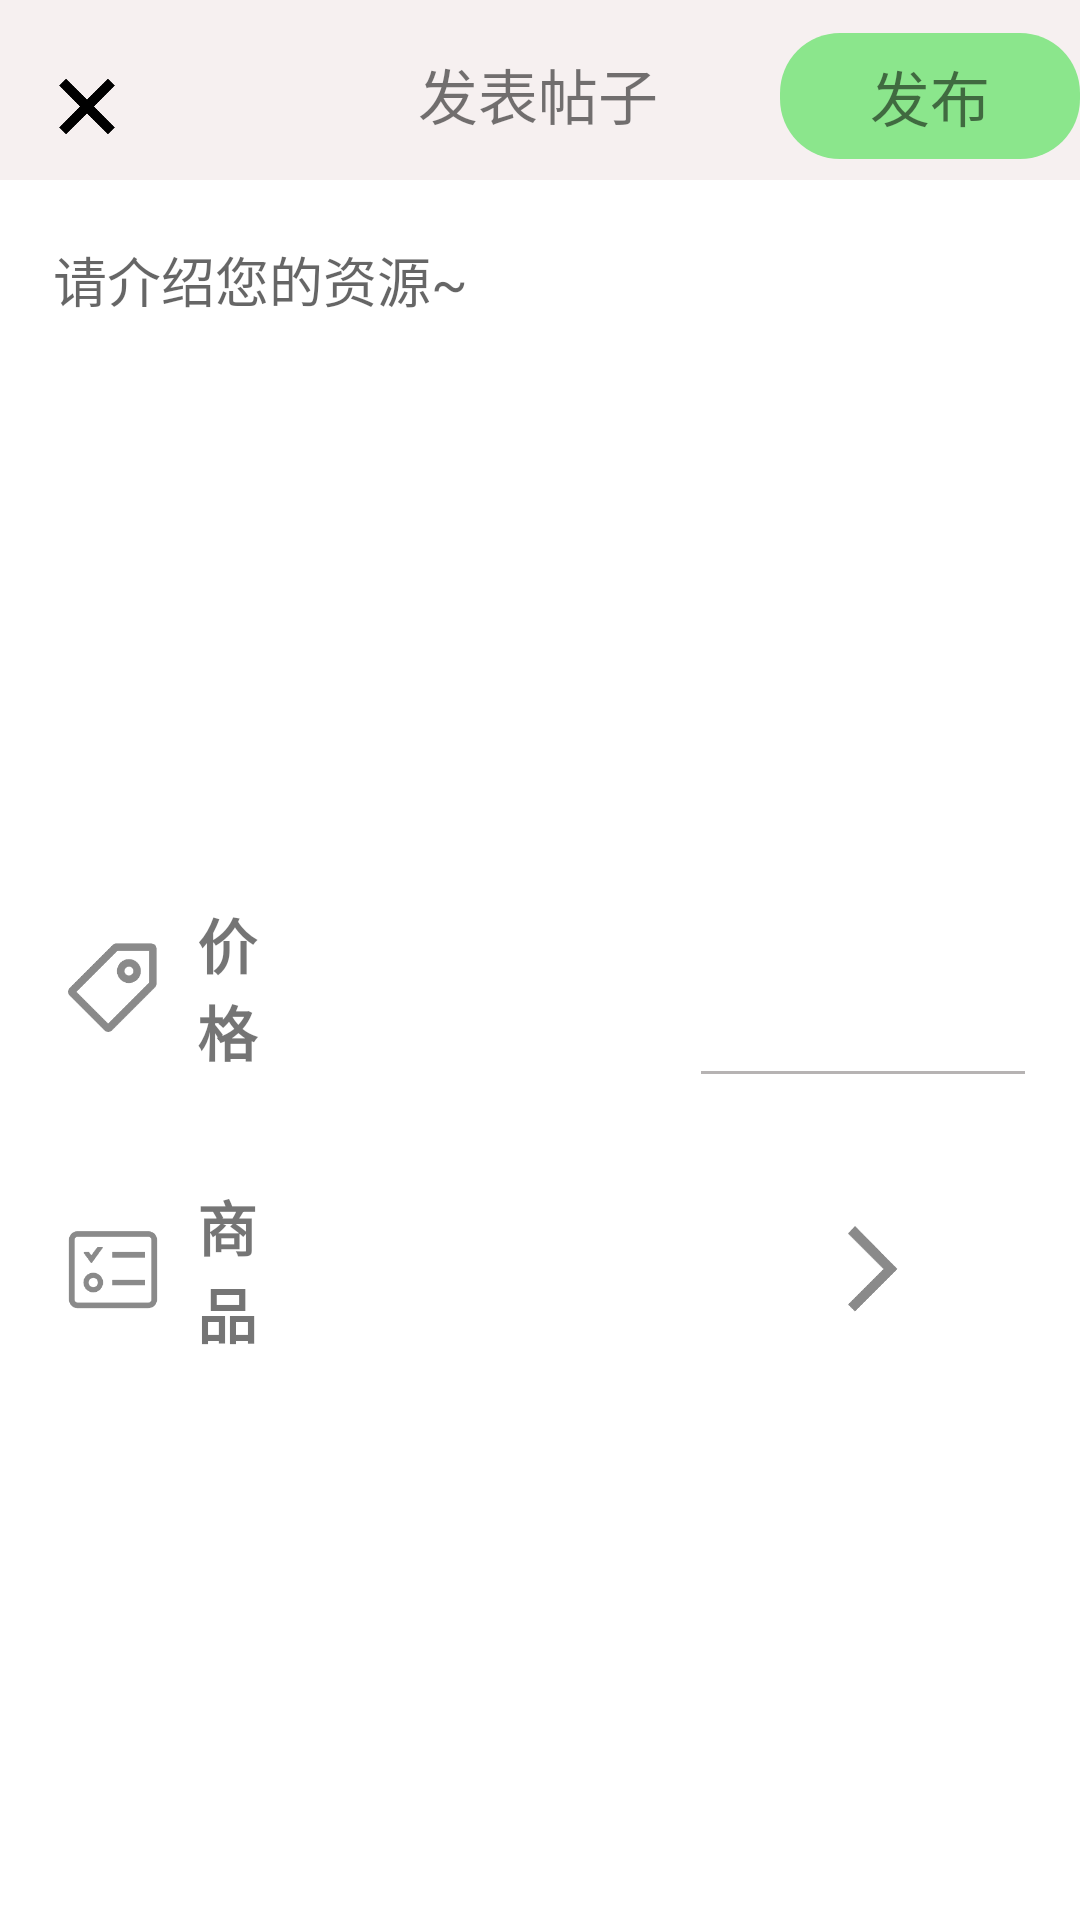

Screen size 1080px×1920px. Icon name, then its center in pixels as (x=x, y=y):
delete: (x=87, y=106)
go to: (x=872, y=1268)
